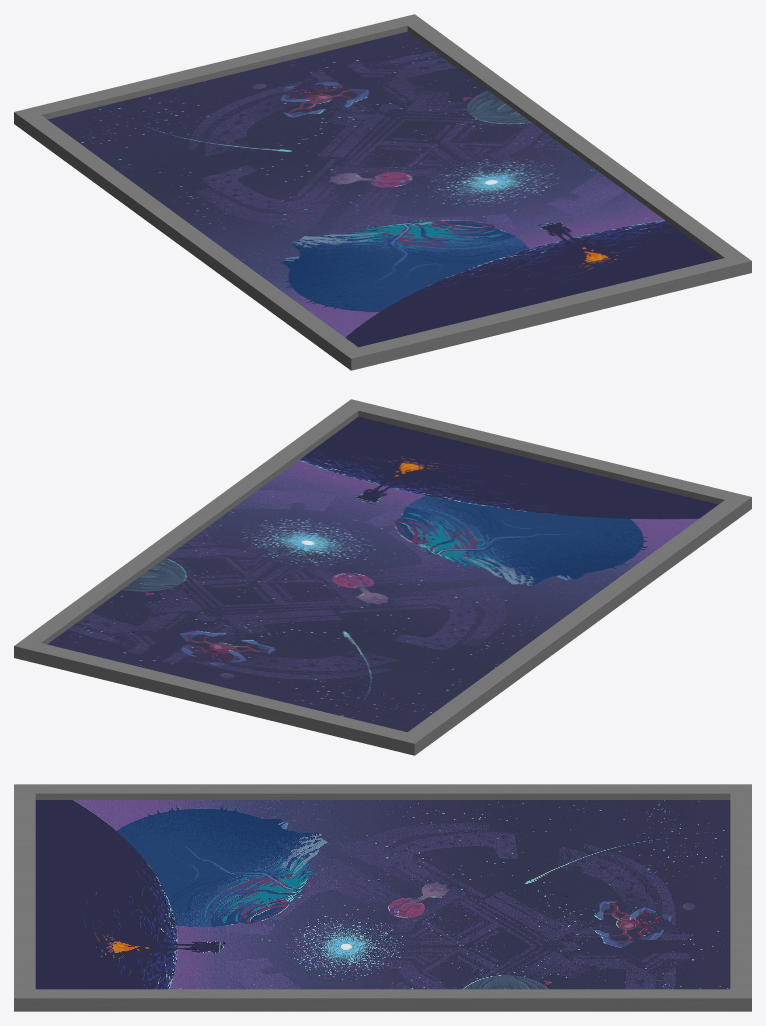
File: poster.fbx
3 views of the same model, one above another, from view 1: azimuth 30°, elevation 25°; view 2: azimuth 150°, elevation 25°; view 3: azimuth 270°, elevation 25° (orthographic). The views are drawn at different scales.
Parts seen in each view (by area): view 1: Poster, Frame; view 2: Poster, Frame; view 3: Poster, Frame.
Boxes of the visible parts, x1,y1,x2,y2 form: Poster: (47, 31, 718, 347); Frame: (14, 14, 751, 370); Poster: (47, 416, 718, 732); Frame: (14, 399, 751, 755); Poster: (35, 800, 730, 989); Frame: (14, 784, 751, 1011).
Size of the model in its own units: 70 by 2 by 102.
